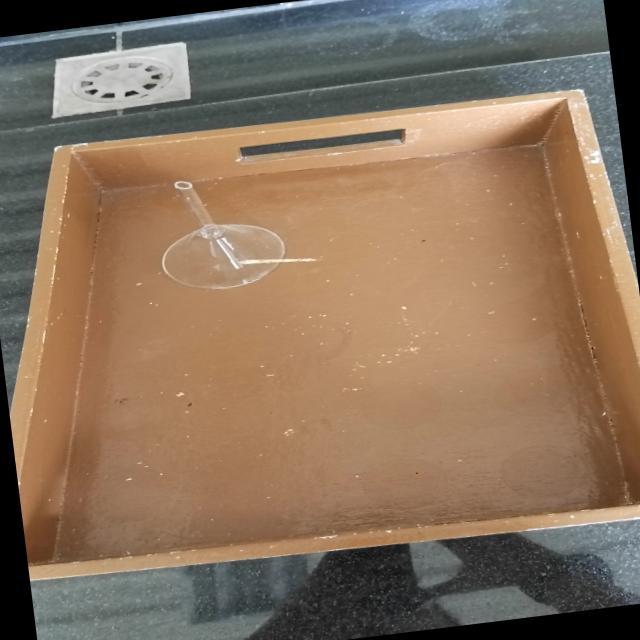funnel: (140, 164, 302, 304)
